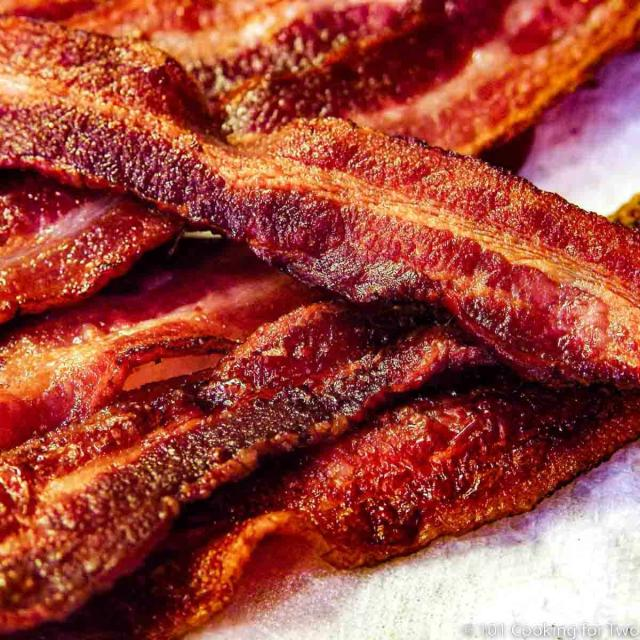Bacon: (0, 18, 640, 386), (0, 302, 491, 629), (4, 389, 640, 639), (0, 240, 325, 447), (225, 1, 640, 154), (0, 171, 180, 323)
